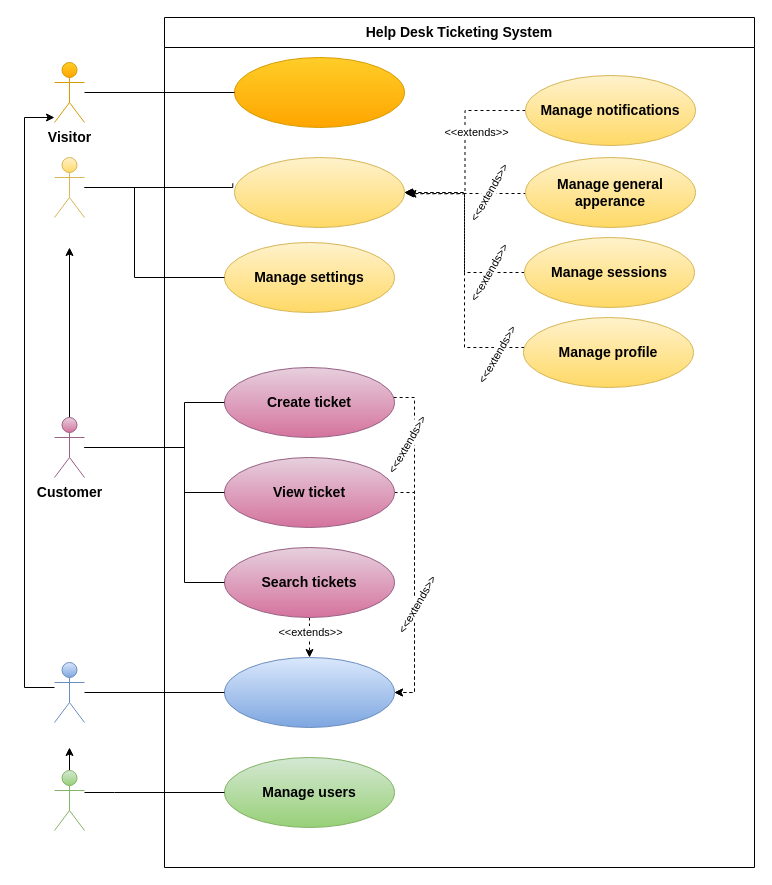
The diagram is 772 pixels wide and 885 high, and some of its shapes have lost their labels. The shapes that lost their labels are listed below. From the top down, each one's centre as x and y in pixels, then its label:
At point 319,92: "Register".
At point 69,187: "User".
At point 319,192: "Recovery password".
At point 69,692: "Admin".
At point 309,692: "Manage tickets".
At point 69,800: "Superadmin".
